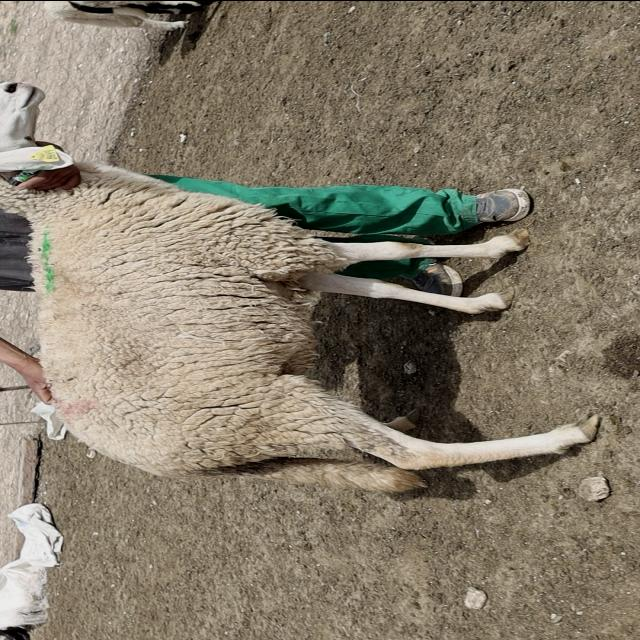Score_1: (0, 81, 599, 491)
